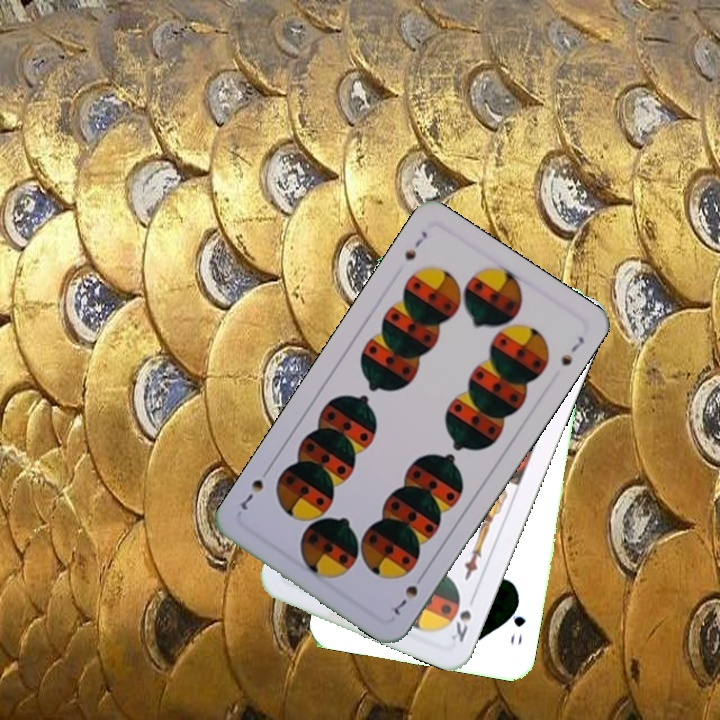GO: (506, 596, 528, 648)
S7: (387, 569, 428, 618), (400, 226, 430, 263)
SK: (447, 590, 479, 645)
